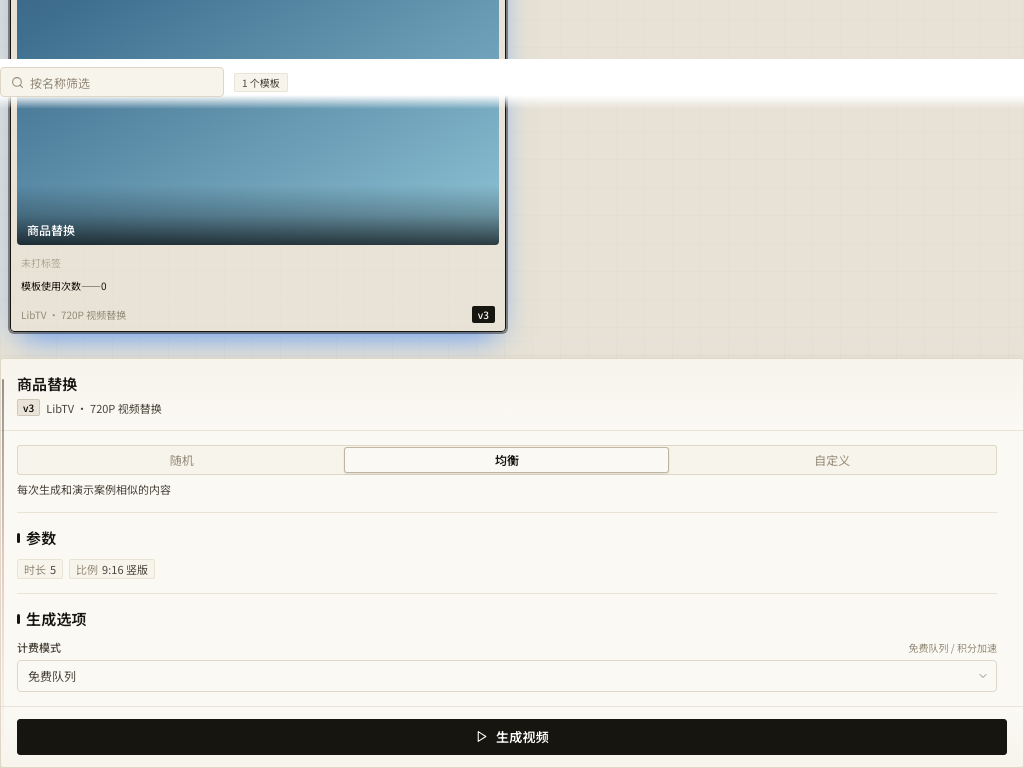
Test: 模板库：可选槽位不填也能生成 › 自定义档：确认框里摆出这条槽位的兜底文案
(page scrolled)
Click the radio button labelled "自定义" at (832, 460), box [670,447,995,473]
(page scrolled)
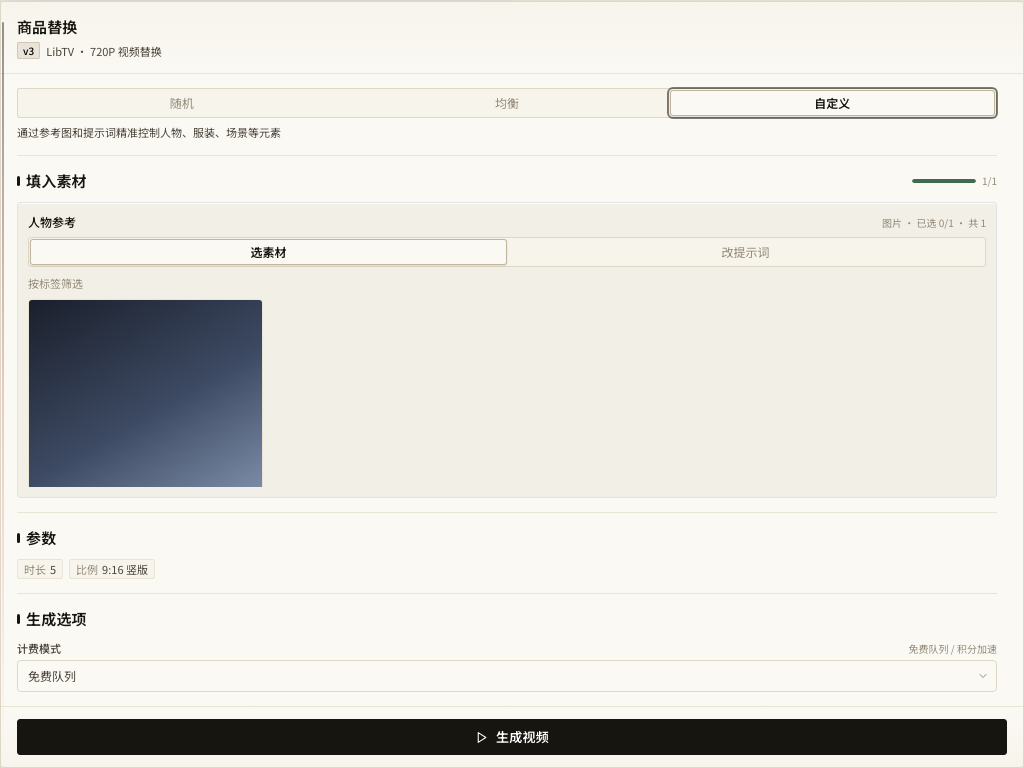
Check: the text "人物参考" is shown, box [28,213,76,231]
Click the button "生成视频" at (512, 737), box [17,719,1007,755]
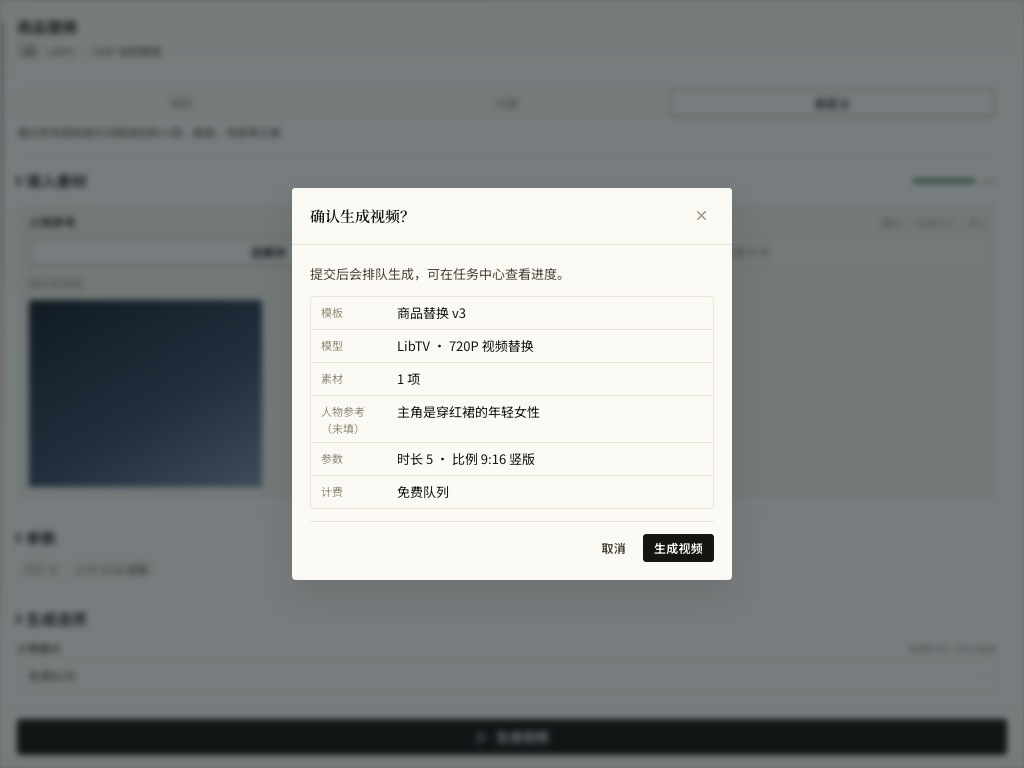
Check: the dialog shows "人物参考（未填）", box [321,403,365,436]
Check: the dialog shows "主角是穿红裙的年轻女性", box [397,402,540,421]
